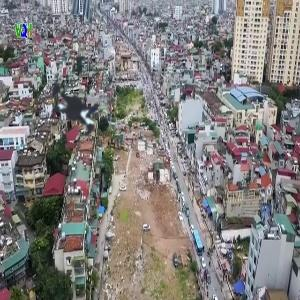drone: (17, 50, 135, 168)
